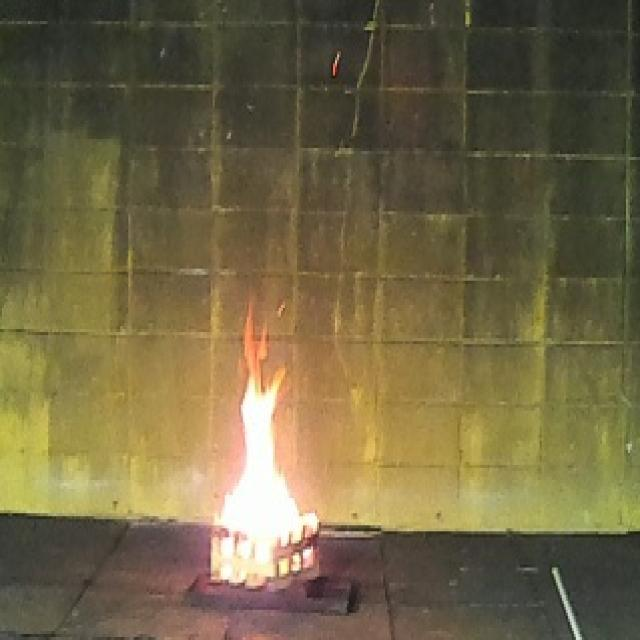Fire: (212, 301, 320, 588)
